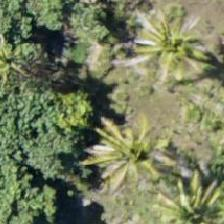coconut_tree: (85, 109, 175, 199), (127, 0, 217, 88), (148, 168, 223, 223)
